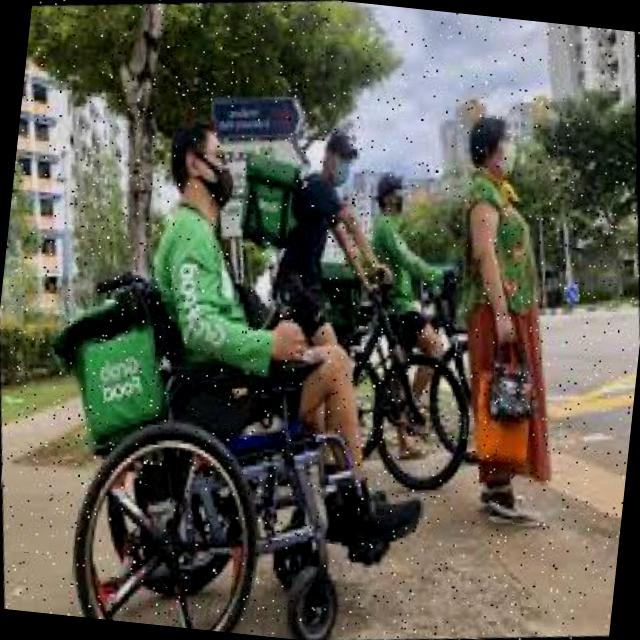Person: (12, 77, 477, 640), (418, 100, 598, 536), (341, 157, 480, 464), (248, 116, 399, 361)
